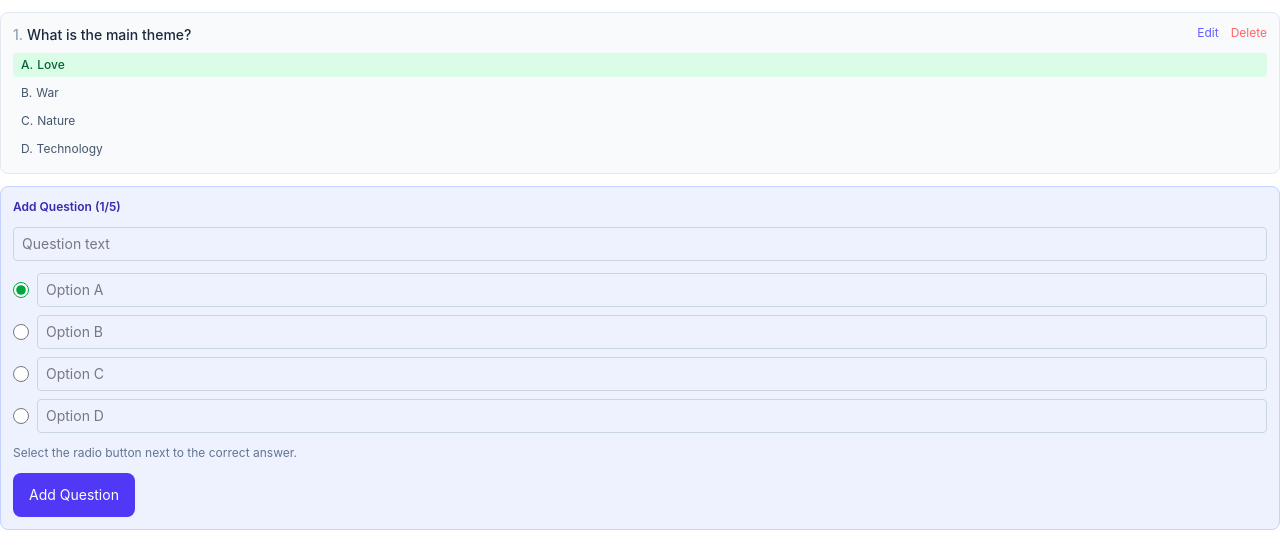
Scenario: QuestionPanel › Cancel edit resets form and returns to add mode
The image size is (1280, 547).
Click the button "Edit".
click(1208, 33)  # box [1197, 25, 1219, 41]
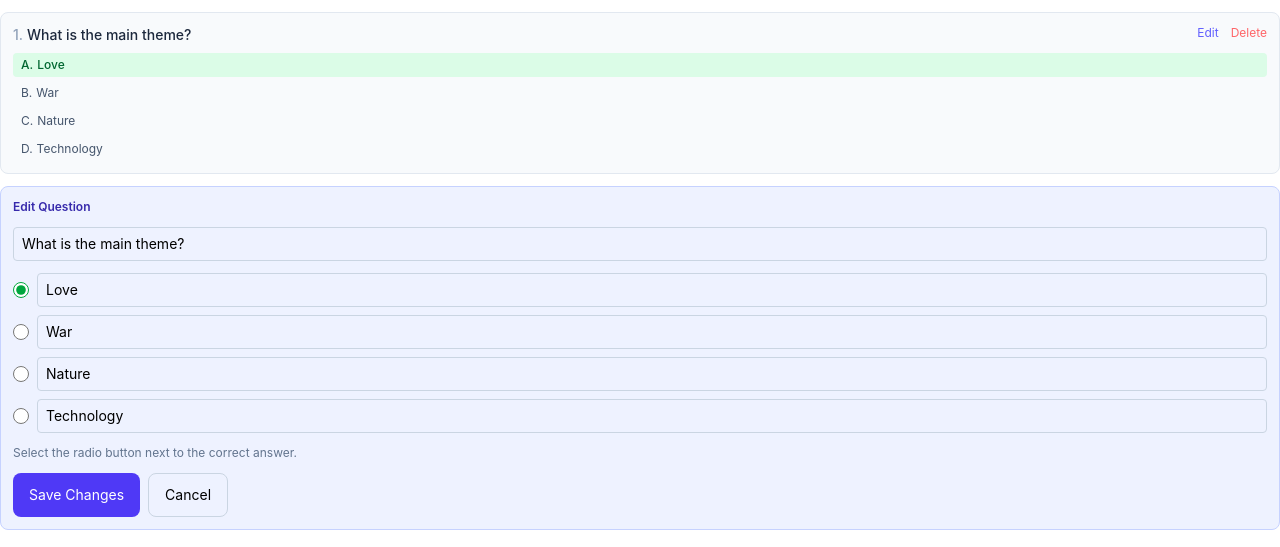
Check: the 1st field with placeholder "Question text" holds "What is the main theme?", box [13, 227, 1267, 261]
Click the button "Cancel".
click(188, 495)  # box [148, 473, 228, 517]
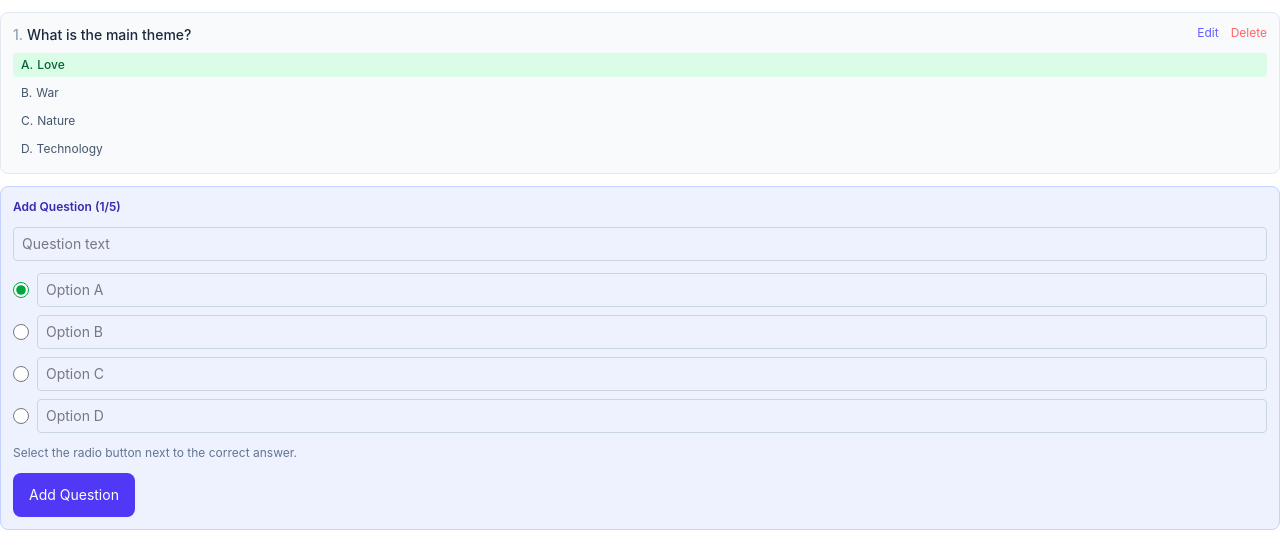
Check: the field with placeholder "Question text" is empty, box [13, 227, 1267, 261]
